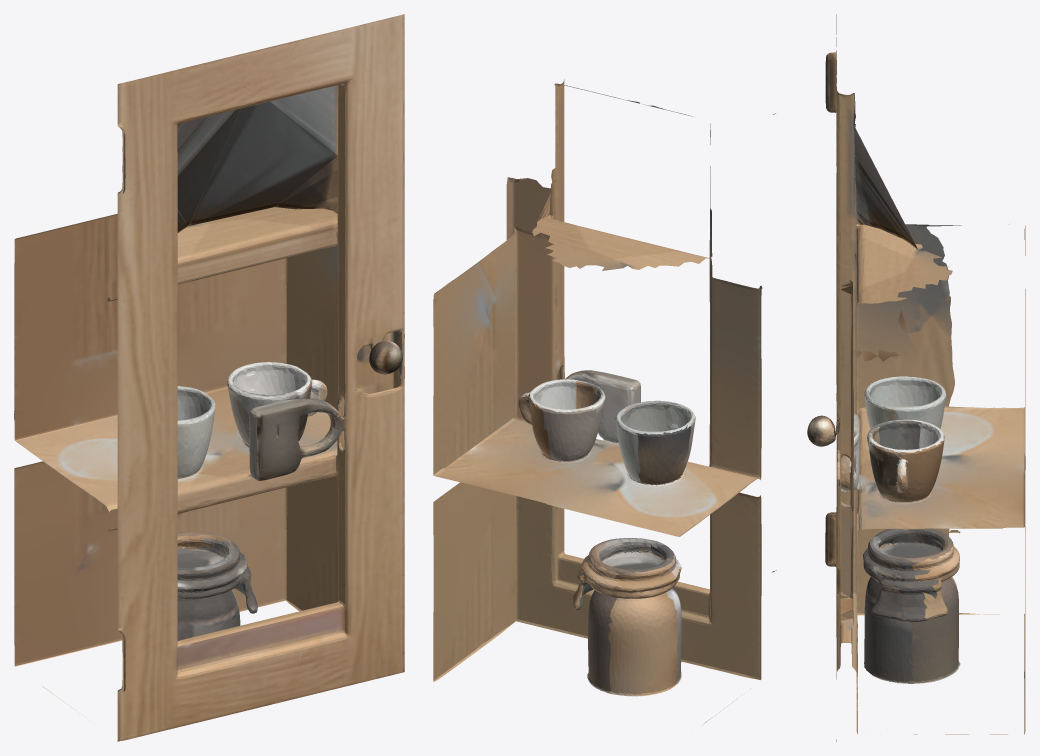
Rendered from door_left.glb.
3 renders of one model, left to right at view 1: azimuth 30°, elevation 25°; view 2: azimuth 150°, elevation 25°; view 3: azimuth 270°, elevation 25°, orthographic. The views are drawn at different scales.
Visible parts, largest first — view 1: source_surface_0; view 2: source_surface_0; view 3: source_surface_0.
Part boxes in pixels (left/top/right/bottom): source_surface_0: left=14, top=14, right=404, bottom=741; source_surface_0: left=433, top=79, right=776, bottom=724; source_surface_0: left=807, top=14, right=1025, bottom=741.
Bounding box in the file's own units: 0.3446 × 0.7543 × 0.249.
Materials: 1 (1 with a texture image).
